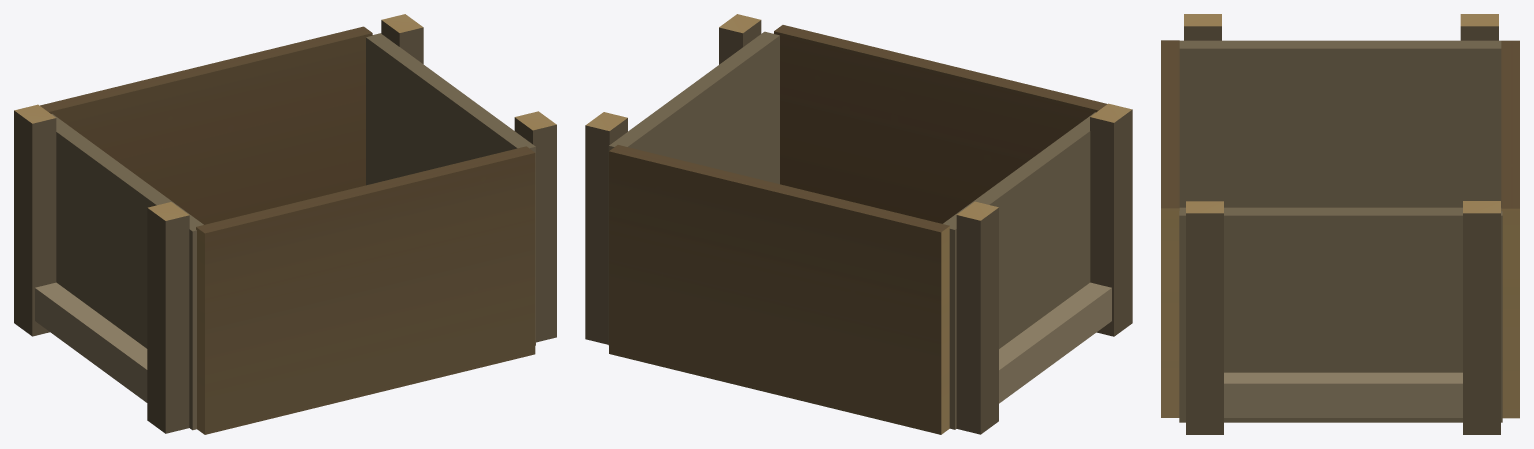
Rendered from Crate_4_LOD1.fbx.
The picture shows the model from 3 angles, left to right: view 1: azimuth 30°, elevation 25°; view 2: azimuth 150°, elevation 25°; view 3: azimuth 270°, elevation 25°; orthographic projection. The views are drawn at different scales.
Visible parts, largest first — view 1: polySurface9651; view 2: polySurface9651; view 3: polySurface9651.
Boxes of the visible parts, left/top/right/bottom form: polySurface9651: left=14, top=14, right=556, bottom=434; polySurface9651: left=585, top=14, right=1132, bottom=434; polySurface9651: left=1161, top=14, right=1519, bottom=434.
Size of the model in its own units: 157 by 81.29 by 119.
